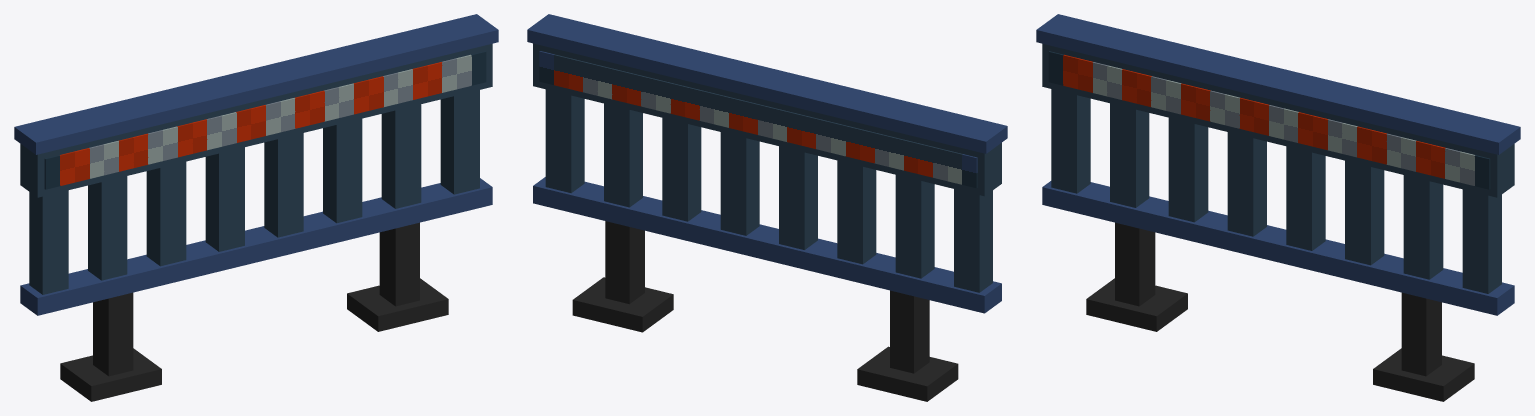
The model's file is CMU3DPlasticRoadBarrierBlue.glb.
The picture shows the model from 3 angles, left to right: view 1: azimuth 30°, elevation 25°; view 2: azimuth 150°, elevation 25°; view 3: azimuth 330°, elevation 25°; orthographic projection.
Visible parts, largest first — view 1: top cap, South original reflector, bottom frame, top frame, vertical web 2, vertical web 6, vertical web 0, vertical web 1, vertical web 5, vertical web 4, vertical web 7, vertical web 3 (+4 smaller); view 2: top cap, North original reflector, bottom frame, top frame, vertical web 7, vertical web 4, vertical web 1, vertical web 2, vertical web 5, vertical web 0, vertical web 3, vertical web 6 (+4 smaller); view 3: top cap, South original reflector, bottom frame, top frame, vertical web 2, vertical web 6, vertical web 7, vertical web 3, vertical web 0, vertical web 4, vertical web 5, vertical web 1 (+4 smaller).
Part boxes in pixels (<box>): top cap: <box>14,14,498,154</box>; South original reflector: <box>44,51,486,189</box>; bottom frame: <box>20,178,492,315</box>; top frame: <box>20,43,492,197</box>; vertical web 2: <box>146,161,186,266</box>; vertical web 6: <box>381,104,421,208</box>; vertical web 0: <box>29,190,68,294</box>; vertical web 1: <box>88,176,127,280</box>; vertical web 5: <box>323,118,362,223</box>; vertical web 4: <box>264,133,303,237</box>; vertical web 7: <box>440,90,479,194</box>; vertical web 3: <box>205,147,244,251</box>; top cap: <box>527,14,1007,153</box>; North original reflector: <box>539,51,977,188</box>; bottom frame: <box>533,177,1001,313</box>; top frame: <box>533,43,1001,196</box>; vertical web 7: <box>545,89,584,193</box>; vertical web 4: <box>720,132,759,235</box>; vertical web 1: <box>895,175,934,278</box>; vertical web 2: <box>837,160,876,264</box>; vertical web 5: <box>662,118,701,221</box>; vertical web 0: <box>954,189,992,292</box>; vertical web 3: <box>779,146,817,249</box>; vertical web 6: <box>604,103,642,207</box>; top cap: <box>1036,14,1520,154</box>; South original reflector: <box>1048,51,1490,189</box>; bottom frame: <box>1042,181,1514,315</box>; top frame: <box>1042,43,1514,197</box>; vertical web 2: <box>1168,117,1208,222</box>; vertical web 6: <box>1403,175,1443,279</box>; vertical web 7: <box>1462,189,1501,293</box>; vertical web 3: <box>1227,132,1266,236</box>; vertical web 0: <box>1051,89,1090,193</box>; vertical web 4: <box>1286,146,1325,250</box>; vertical web 5: <box>1345,160,1384,265</box>; vertical web 1: <box>1110,103,1149,207</box>.
Size of the model in its own units: 0.984 by 0.549 by 0.115.
5 materials, 2 textured.
